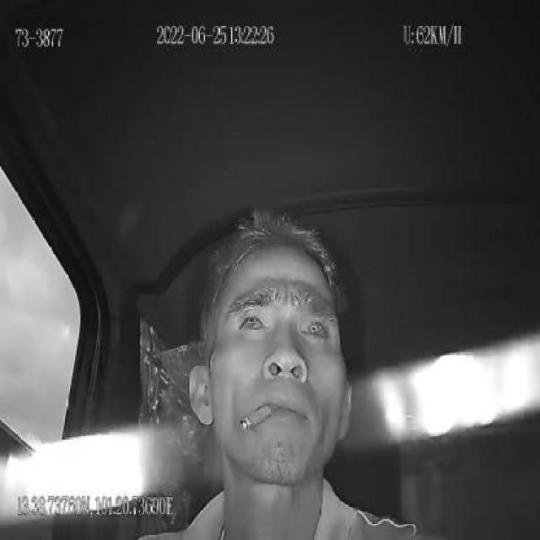smoking: (240, 403, 281, 431)
